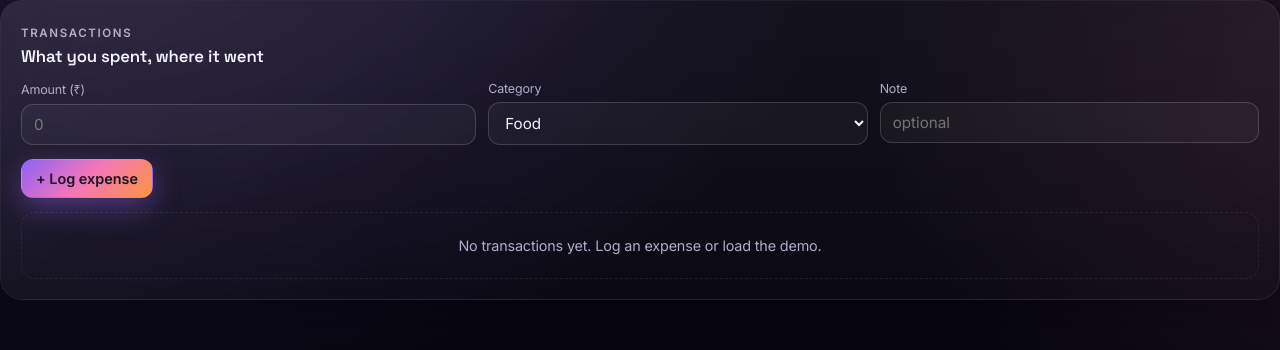
it: Logging an expense updates balance and the transaction list
Type "350" into the number field with placeholder "0" at coordinates (249, 124), box [21,104,476,145]
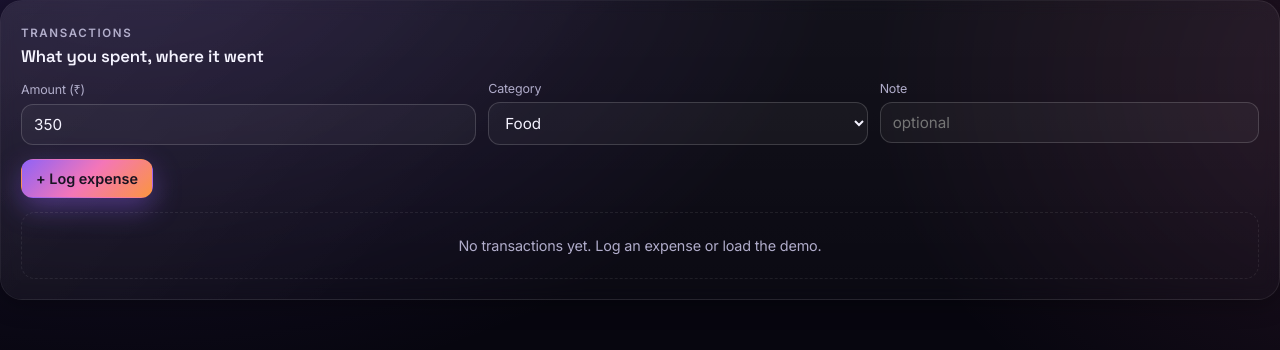
Click the button "+ Log expense" at coordinates (87, 178), box [21,159,153,198]
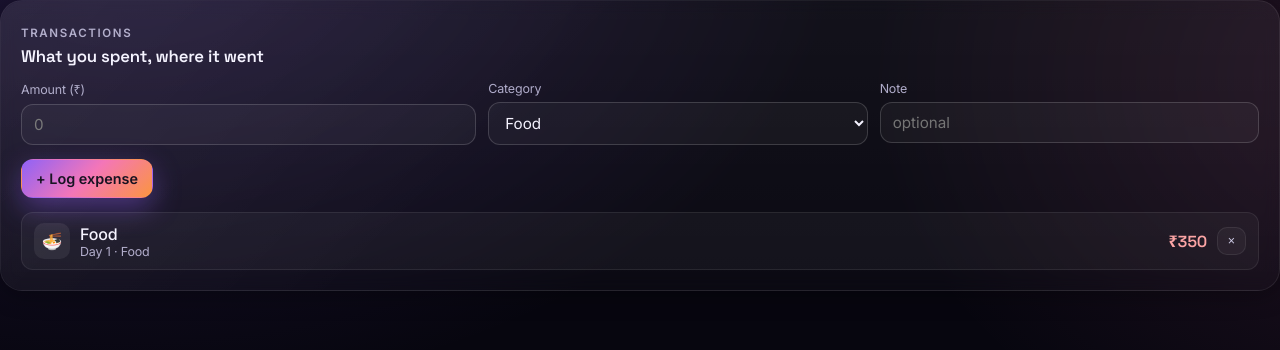
Result: the text "Day 1 · Food" is shown at [80,244,150,258]
